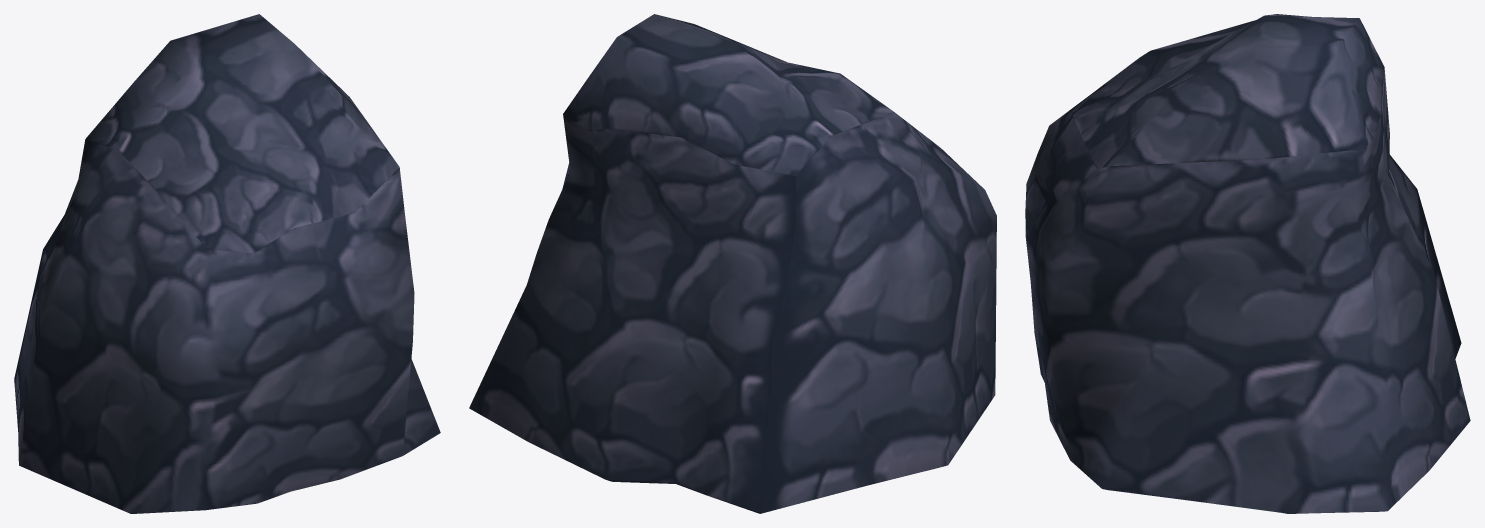
The model's file is big_rock_3.fbx.
3 renders of one model, left to right at view 1: azimuth 30°, elevation 25°; view 2: azimuth 150°, elevation 25°; view 3: azimuth 270°, elevation 25°, orthographic. The views are drawn at different scales.
Parts seen in each view (by area): view 1: Big_rock; view 2: Big_rock; view 3: Big_rock.
Part boxes in pixels (bbox=[...]): Big_rock: bbox=[14, 14, 440, 513]; Big_rock: bbox=[469, 14, 996, 513]; Big_rock: bbox=[1025, 14, 1470, 513].
Bounding box in the file's own units: 11.16 × 9.8 × 9.71.
